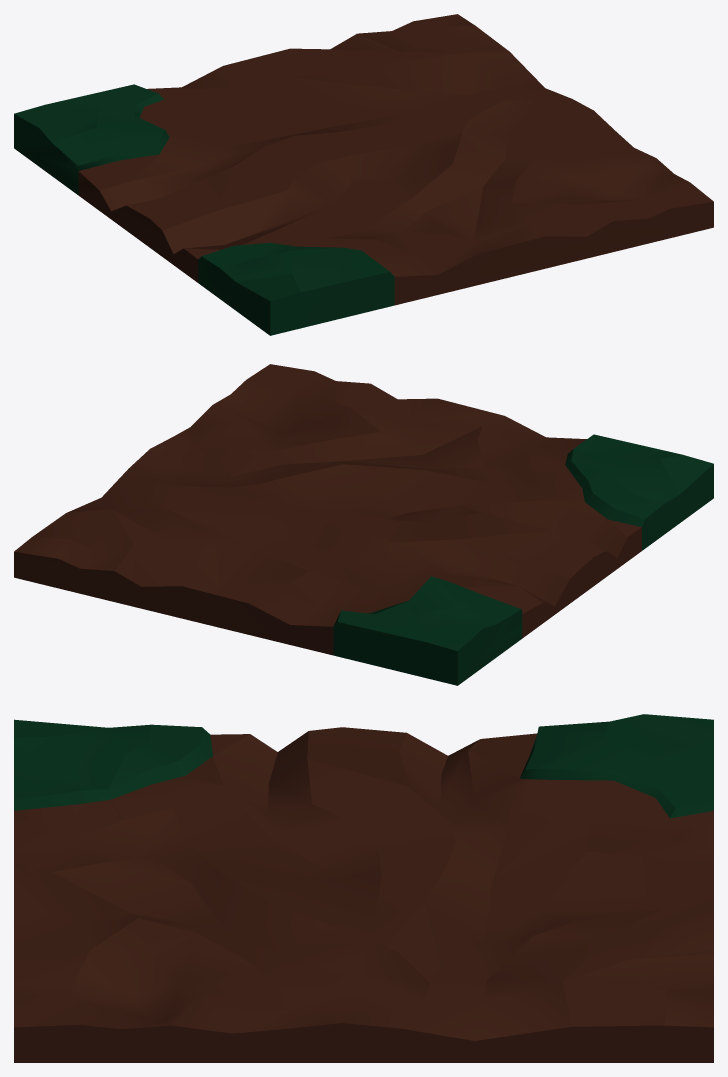
The model's file is Ground_Road_Entrance_L.fbx.
3 renders of one model, top to bottom at view 1: azimuth 30°, elevation 25°; view 2: azimuth 150°, elevation 25°; view 3: azimuth 270°, elevation 25°, orthographic. The views are drawn at different scales.
Visible parts, largest first — view 1: Ground_Road_Entrance_L; view 2: Ground_Road_Entrance_L; view 3: Ground_Road_Entrance_L.
Part boxes in pixels (x1=…): Ground_Road_Entrance_L: x1=14, y1=14, x2=713, y2=335; Ground_Road_Entrance_L: x1=14, y1=364, x2=713, y2=685; Ground_Road_Entrance_L: x1=14, y1=714, x2=713, y2=1062.
Size of the model in its own units: 147 by 13.39 by 147.
